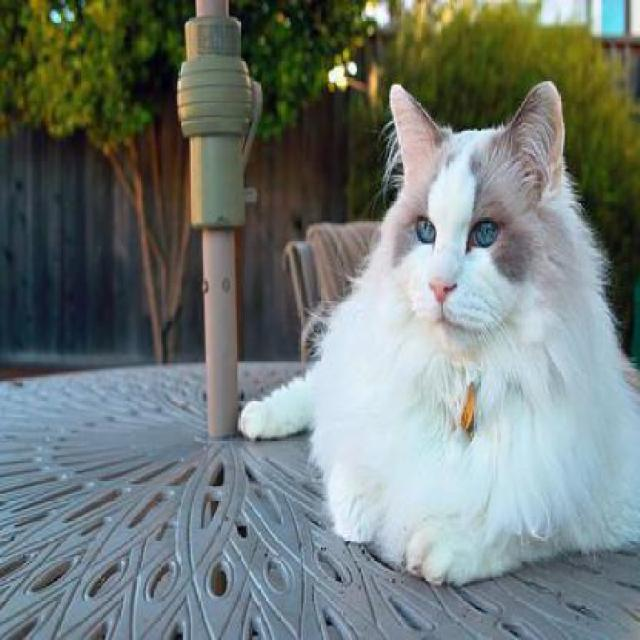cat: (238, 78, 639, 588)
